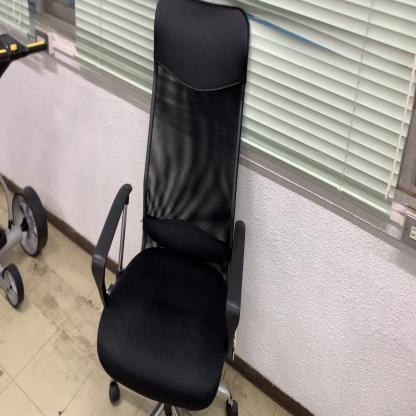chair: (92, 2, 250, 416)
